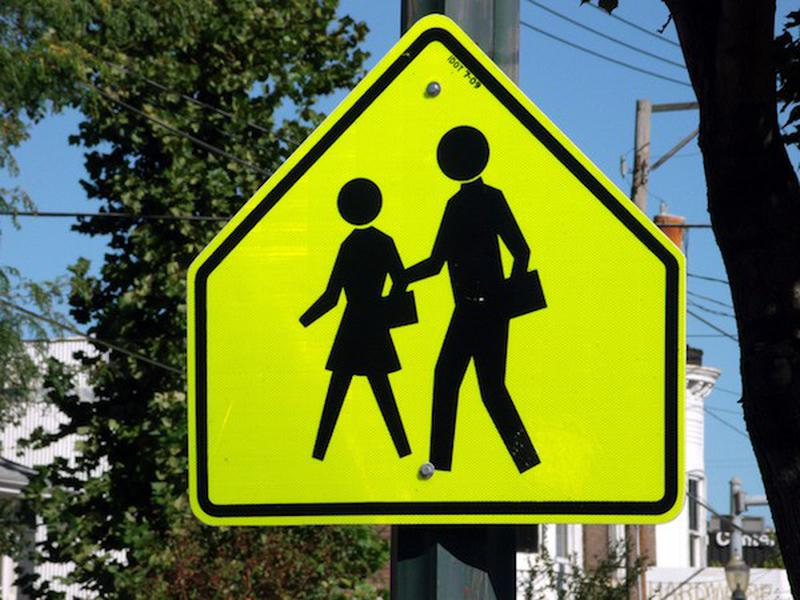slow: (173, 14, 691, 532)
